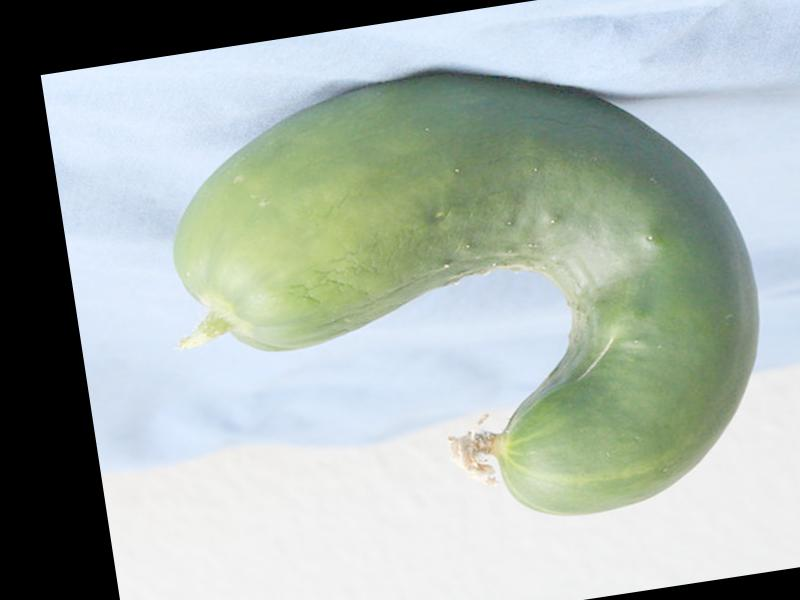Cucumber: (151, 30, 788, 571)
